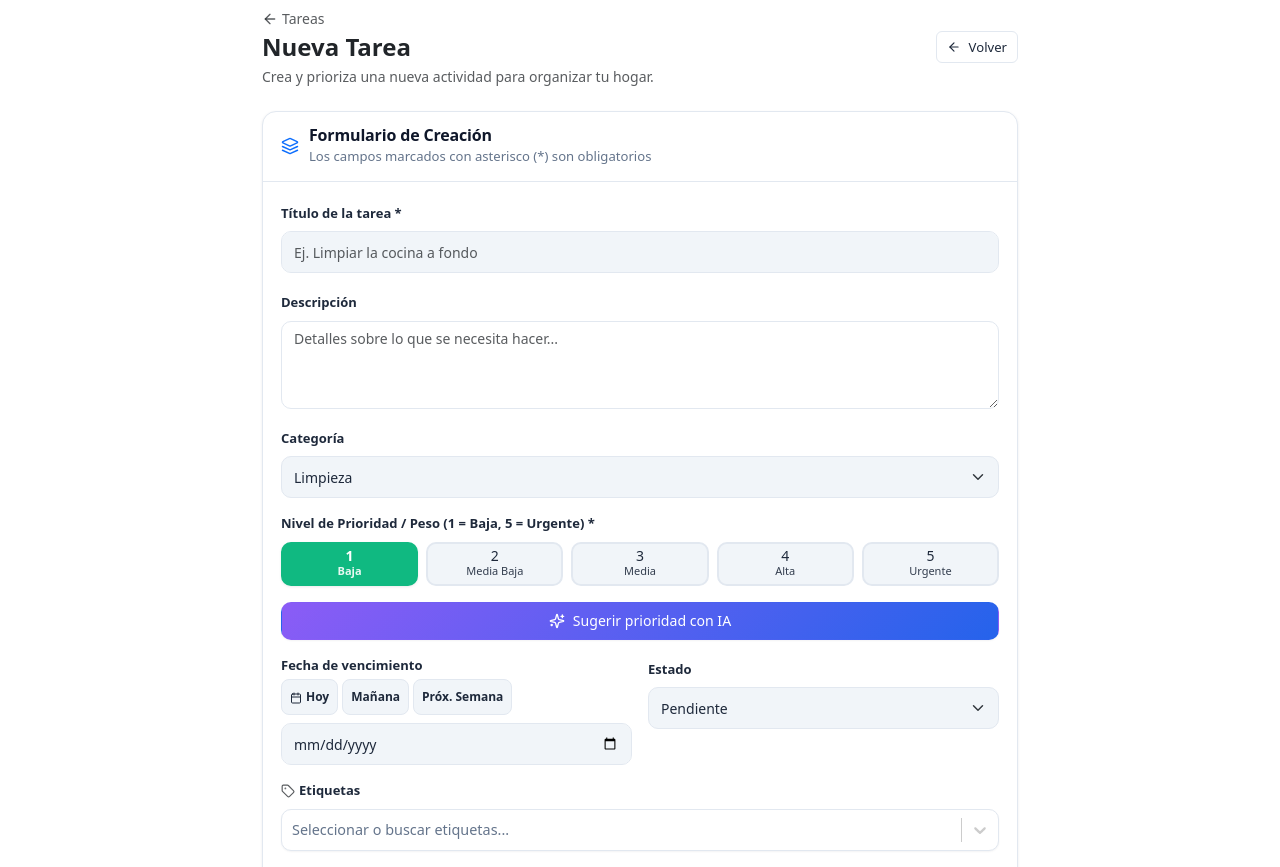
Test: TaskForm Component › aplica los tokens del título al pulsar la tecla Tab en el campo de título
Type "Revisar caldera mañana p2" into the field labelled "Título de la tarea *" at [640, 252], box [281,231,999,273]
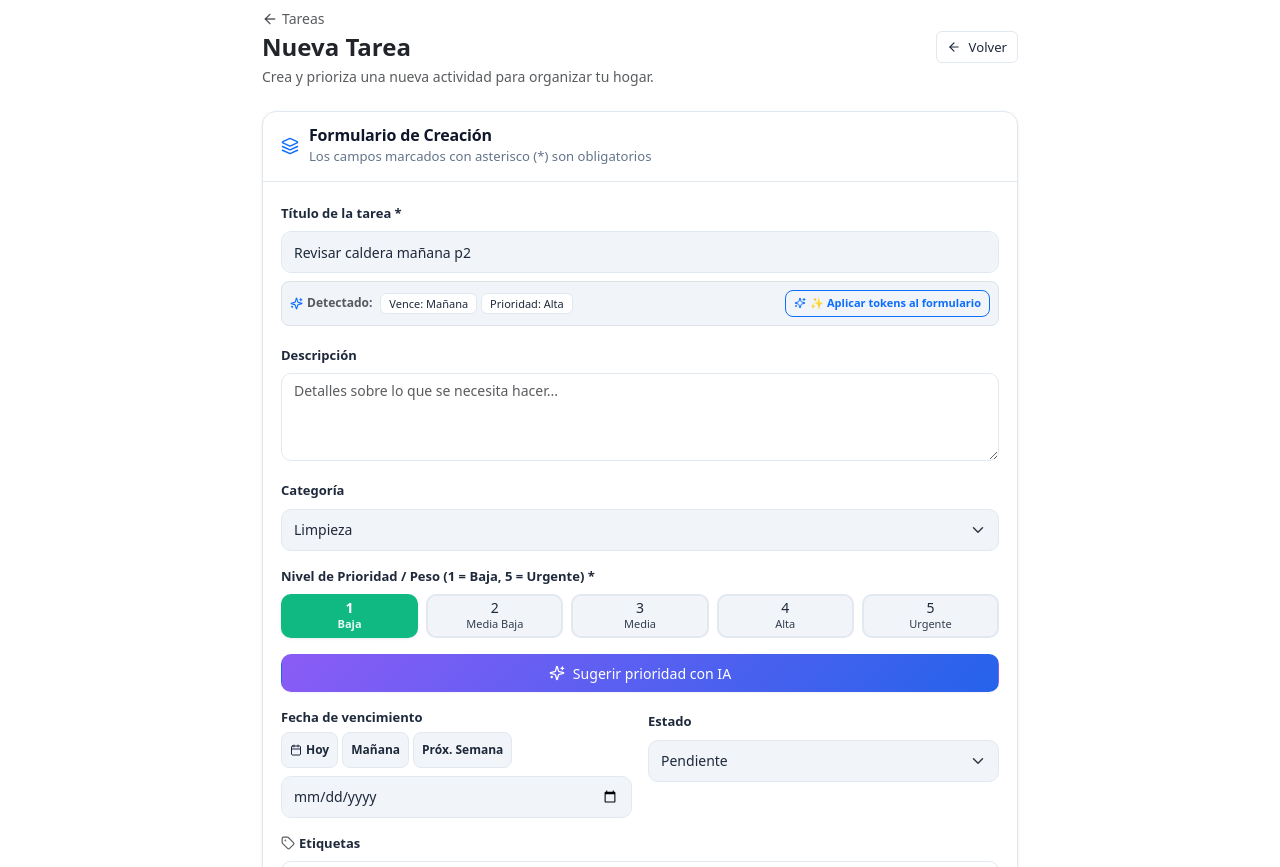
Now the element with test id "nlp-assistant-bar" is shown, box [281,281,999,326]
Press Tab in the field labelled "Título de la tarea *", box [281,231,999,273]
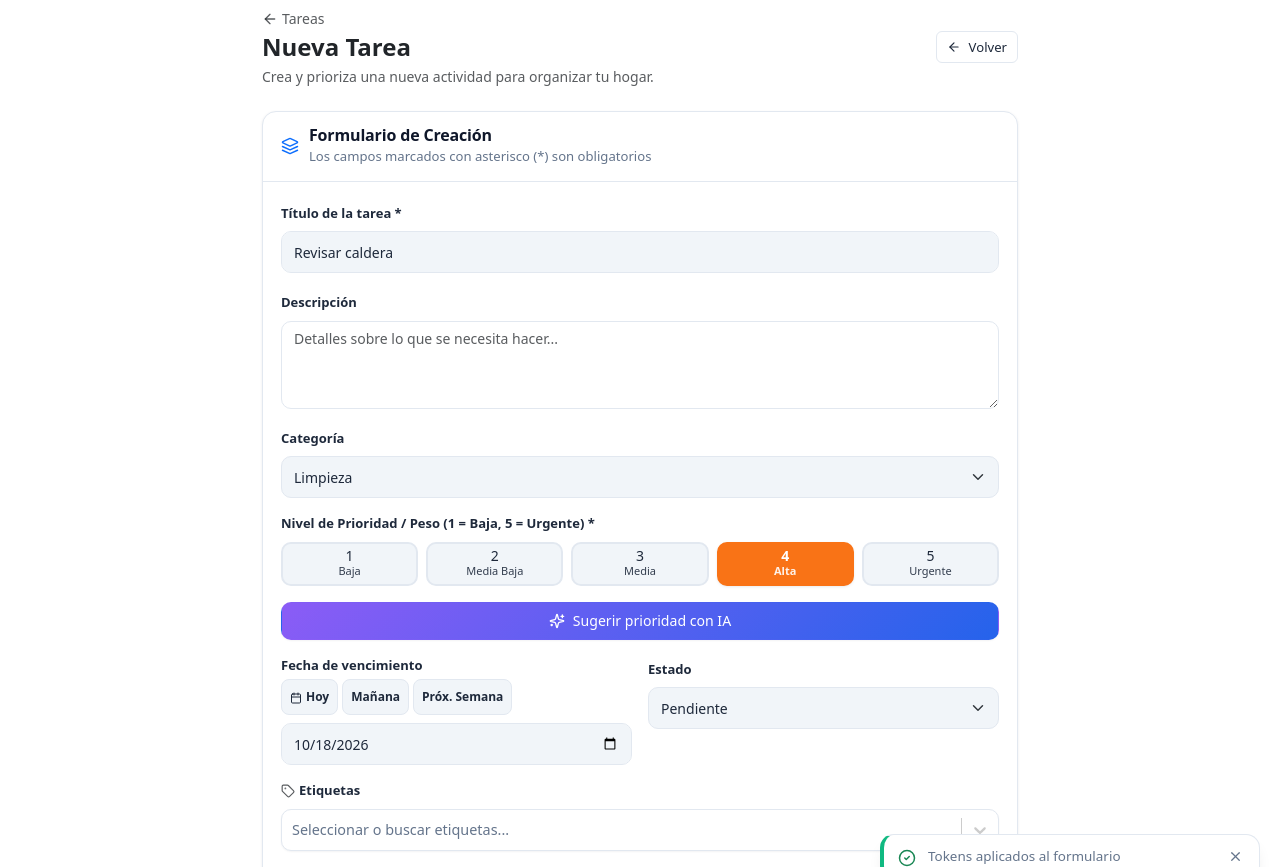
Expected: the element named "peso" holds "4", [281,514,999,586]
Now the field labelled "Título de la tarea *" holds "Revisar caldera", box [281,231,999,273]
Now the date field labelled "Fecha de vencimiento" is not empty, box [281,723,632,765]
